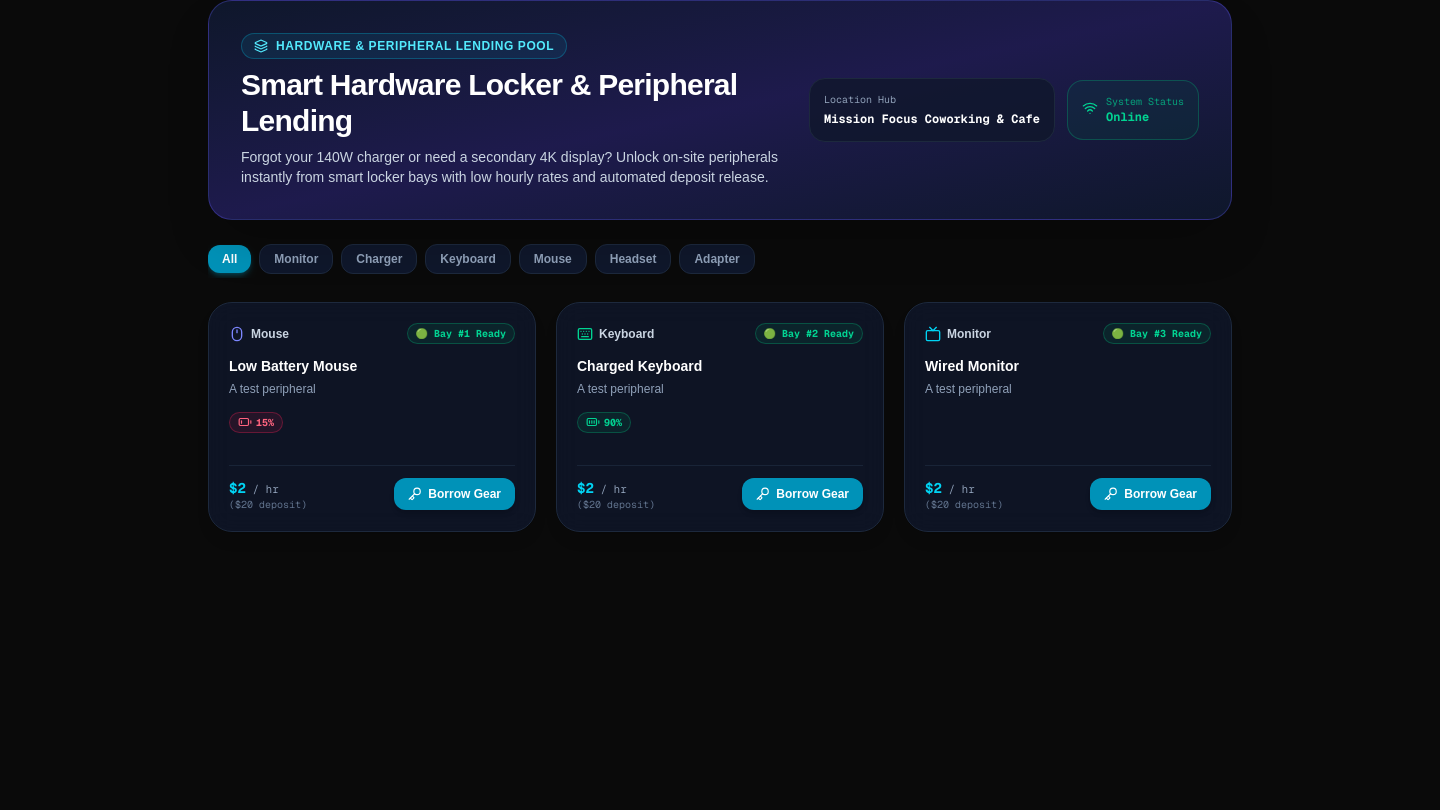
Test case: PeripheralLockerGrid battery status › warns when a device below 20% is requested
Check: the heading "Low Battery Mouse" is shown, box [229,358,357,374]
Click the button "Borrow Gear" below "15". click: coordinates (455, 494)
box: [394,478,515,510]
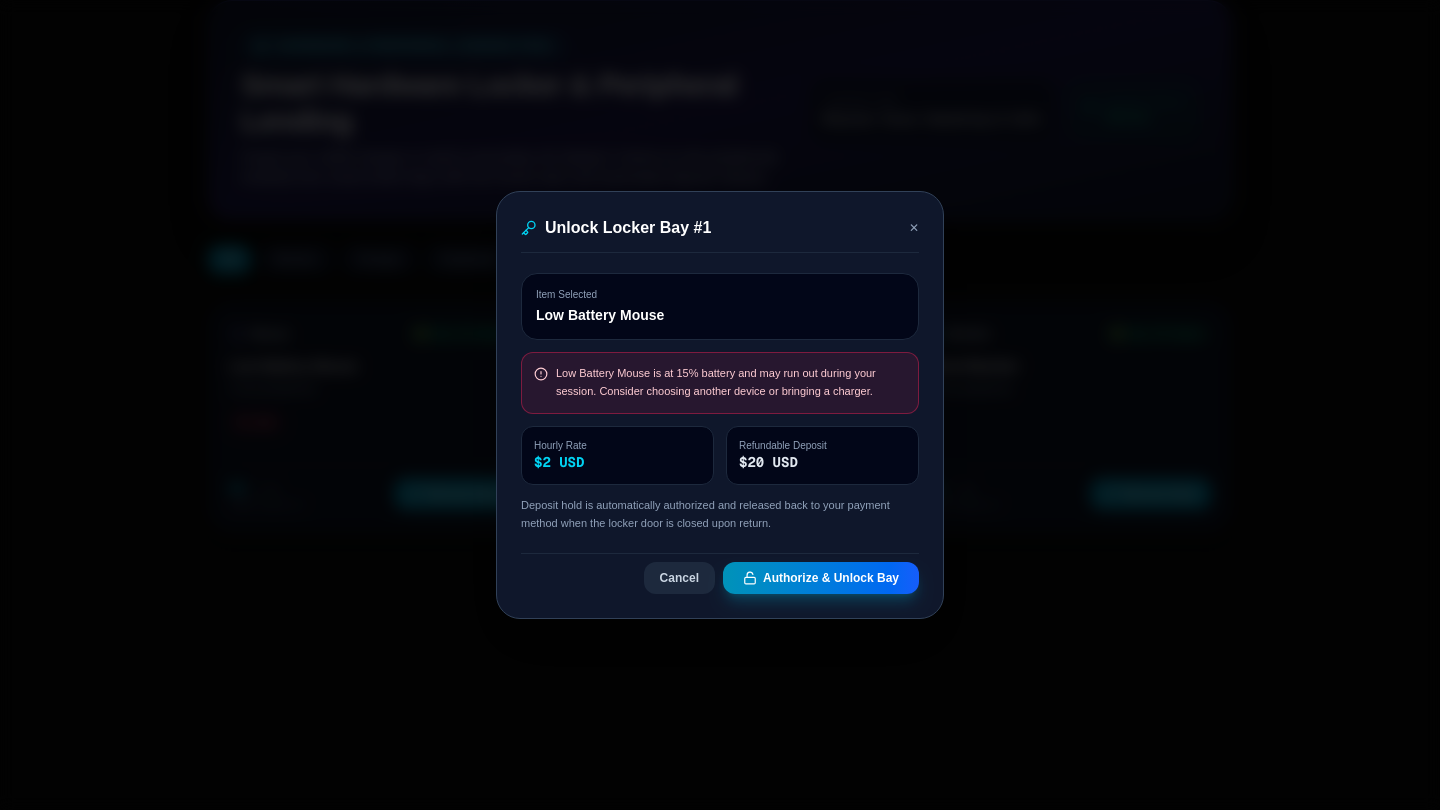
Check: the message shows "Low Battery Mouse", box [556,367,876,397]
Check: the message shows "15%", box [556,367,876,397]
